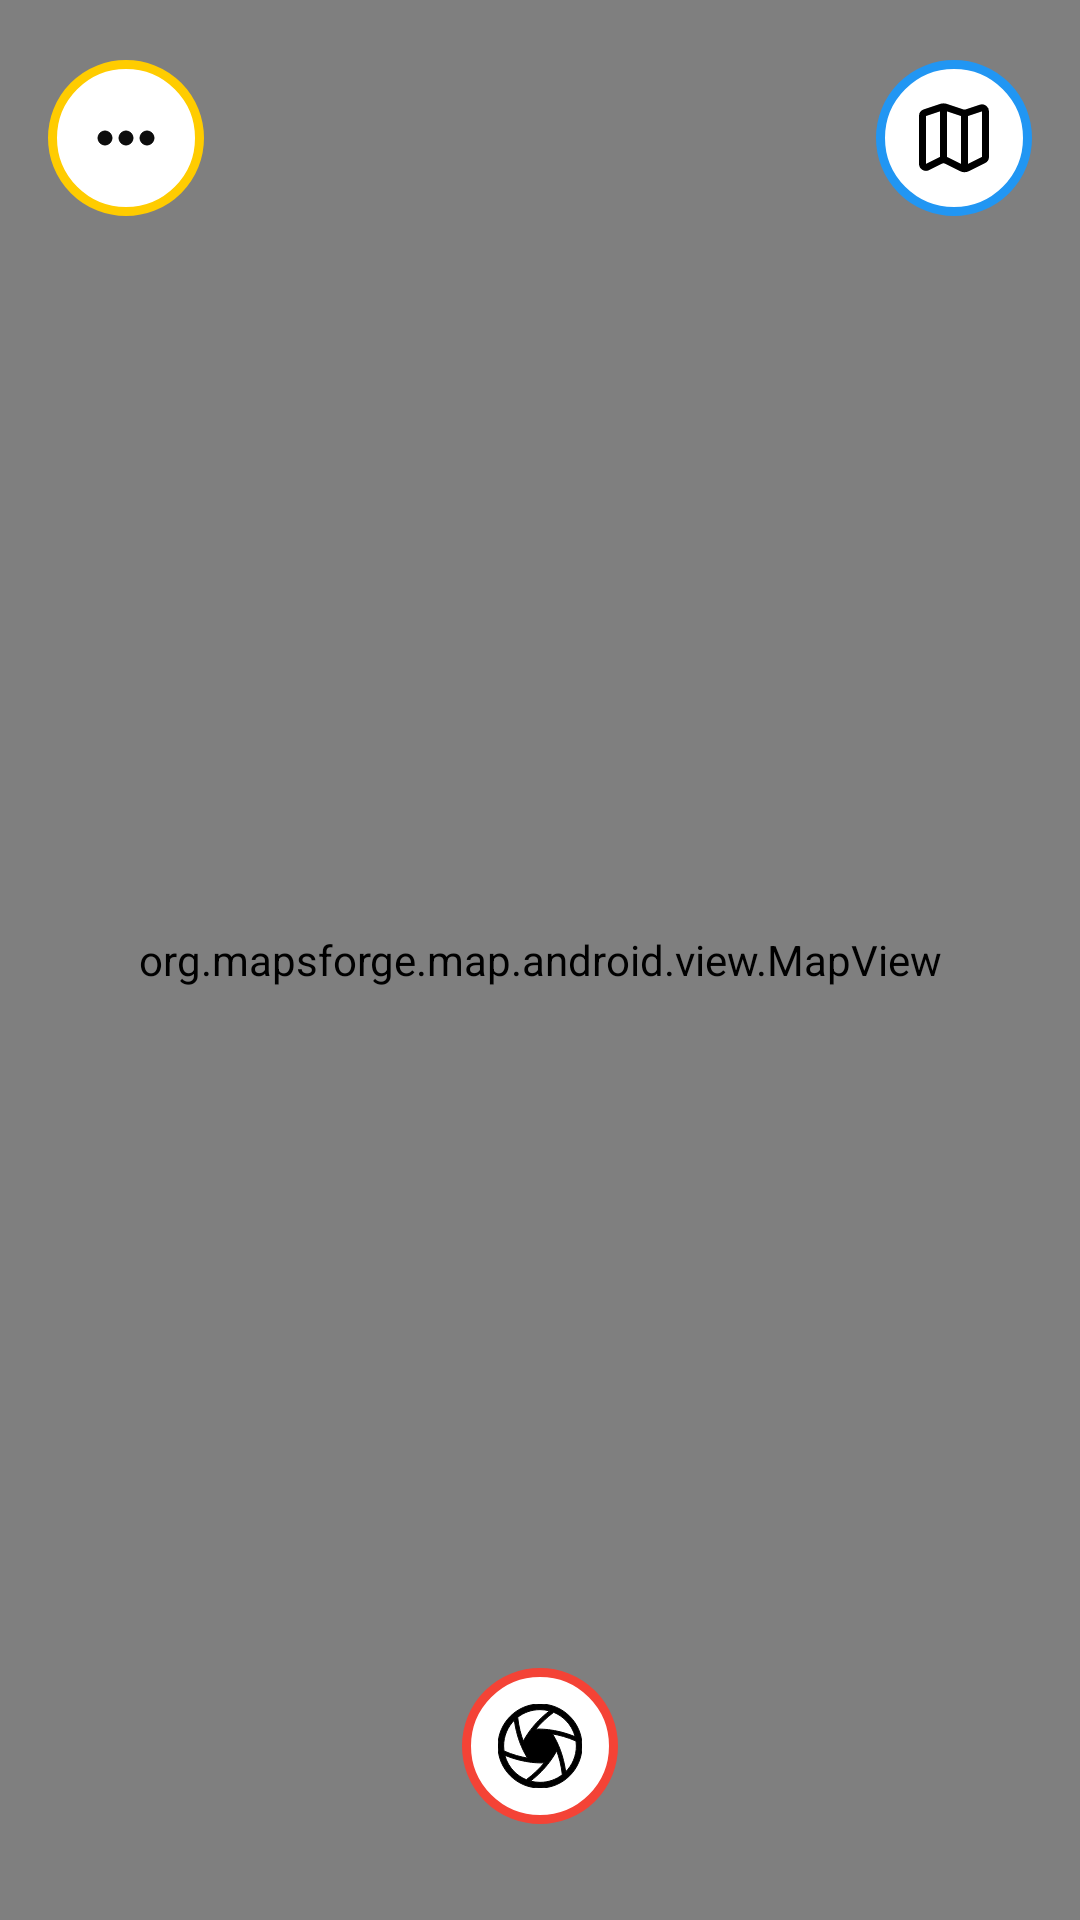

Screen size 1080x1920. Icon name, then its box in pixels as (x1, y1, x2, y2):
menu: (48, 60, 204, 216)
shutter: (462, 1668, 618, 1824)
